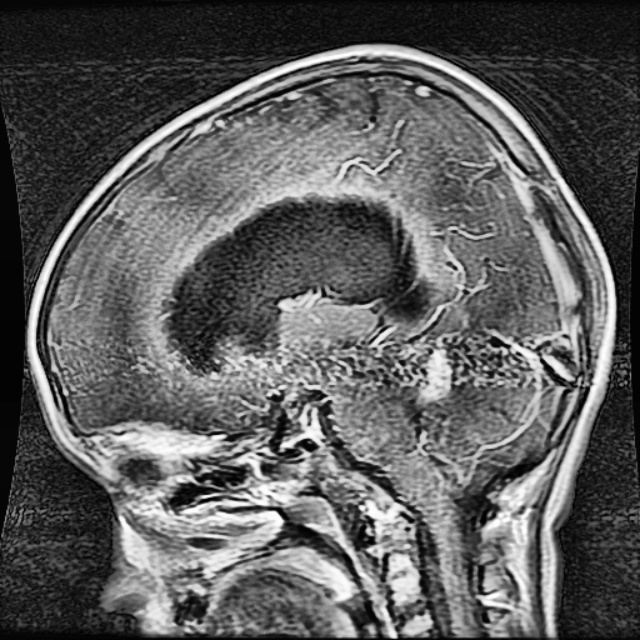Meningioma: (170, 192, 430, 372)
